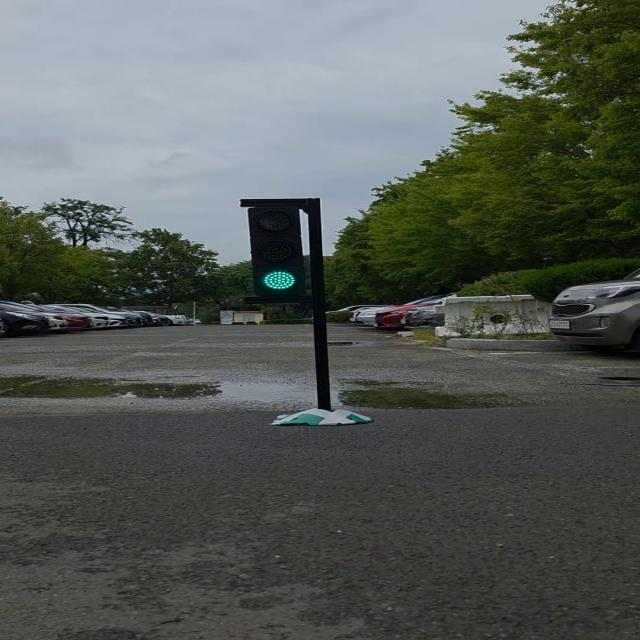green: (246, 199, 321, 303)
